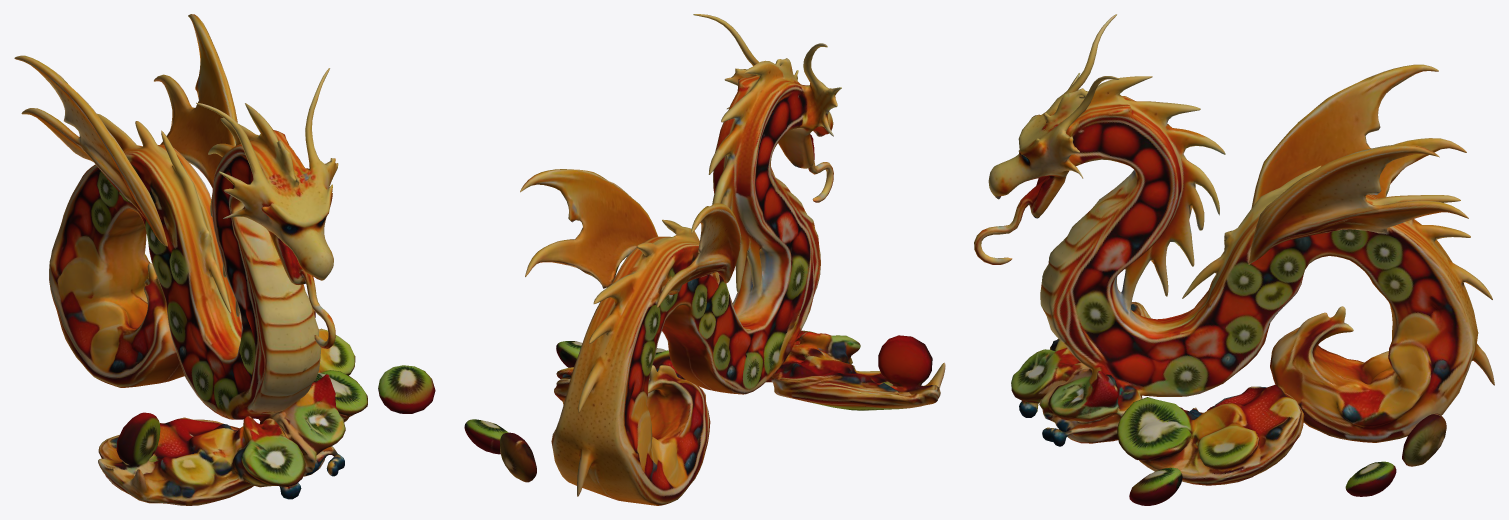
File: tripo_convert_913fde29-8e31-4a63-b537-8f833862e9c6.glb
3 views of the same model, side by side, from view 1: azimuth 30°, elevation 25°; view 2: azimuth 150°, elevation 25°; view 3: azimuth 270°, elevation 25° (orthographic). The views are drawn at different scales.
Parts seen in each view (by area): view 1: tripo_node_913fde29-8e31-4a63-b537-8f833862e9c6; view 2: tripo_node_913fde29-8e31-4a63-b537-8f833862e9c6; view 3: tripo_node_913fde29-8e31-4a63-b537-8f833862e9c6.
Part boxes in pixels (left/top/right/bottom): tripo_node_913fde29-8e31-4a63-b537-8f833862e9c6: left=14, top=14, right=435, bottom=505; tripo_node_913fde29-8e31-4a63-b537-8f833862e9c6: left=464, top=14, right=945, bottom=505; tripo_node_913fde29-8e31-4a63-b537-8f833862e9c6: left=974, top=14, right=1494, bottom=505.
Size of the model in its own units: 0.7557 by 0.7661 by 0.9463.
Materials: 1 (1 with a texture image).
